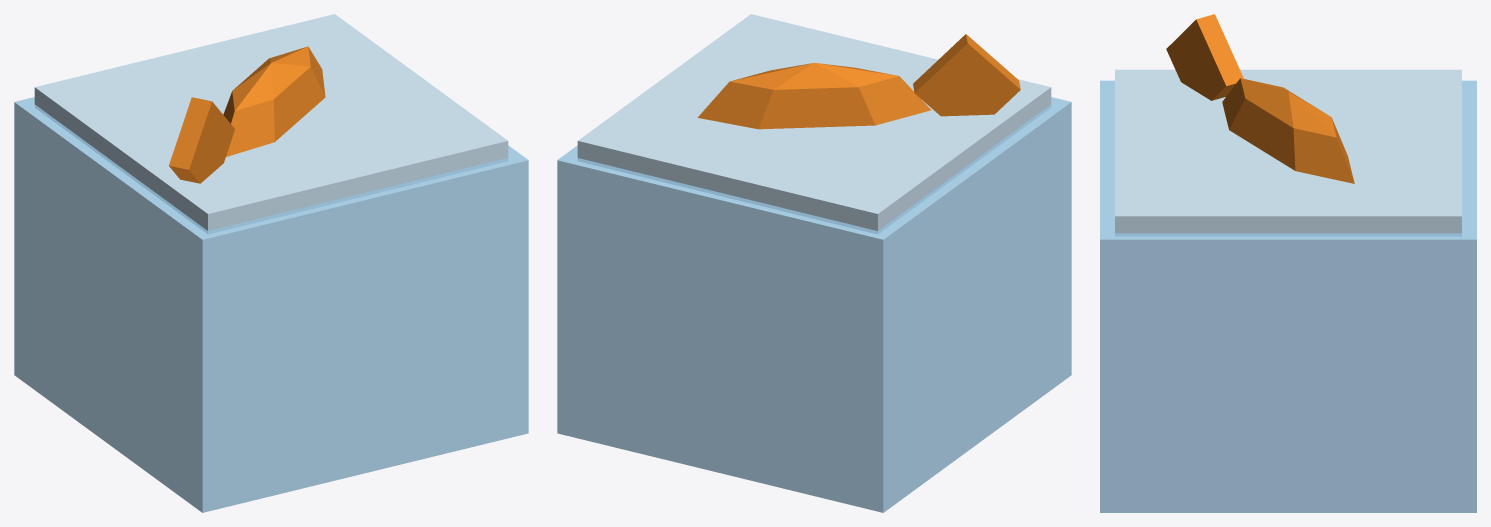
File: chase_ice.glb
3 renders of one model, left to right at view 1: azimuth 30°, elevation 25°; view 2: azimuth 150°, elevation 25°; view 3: azimuth 270°, elevation 25°, orthographic.
Parts seen in each view (by area): view 1: ice_ice, ice_frost, fish_fish_orange; view 2: ice_ice, ice_frost, fish_fish_orange; view 3: ice_ice, ice_frost, fish_fish_orange.
Boxes of the visible parts, <box> form: ice_ice: <box>14,97,528,512</box>; ice_frost: <box>34,14,508,233</box>; fish_fish_orange: <box>169,46,325,183</box>; ice_ice: <box>557,97,1071,512</box>; ice_frost: <box>577,14,1051,233</box>; fish_fish_orange: <box>697,34,1020,129</box>; ice_ice: <box>1100,80,1476,512</box>; ice_frost: <box>1115,69,1461,235</box>; fish_fish_orange: <box>1166,14,1354,183</box>.
Bounding box in the file's own units: 0.5 × 0.5307 × 0.5.
